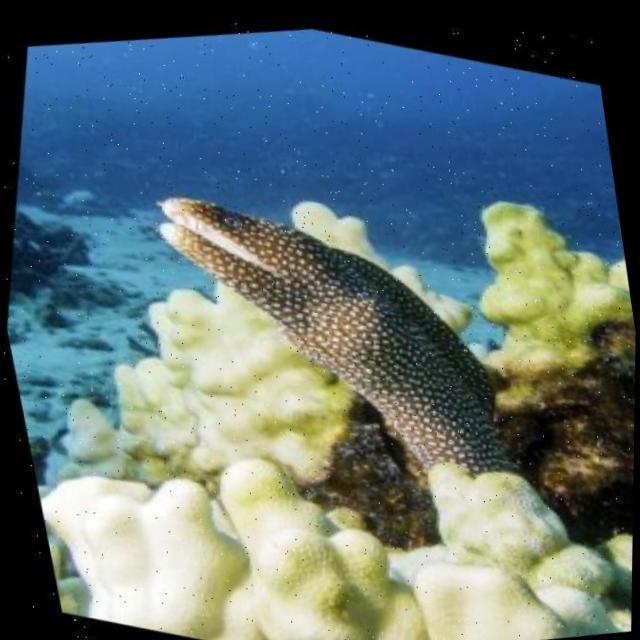Bleached Coral: (6, 252, 637, 640), (421, 134, 639, 441)
